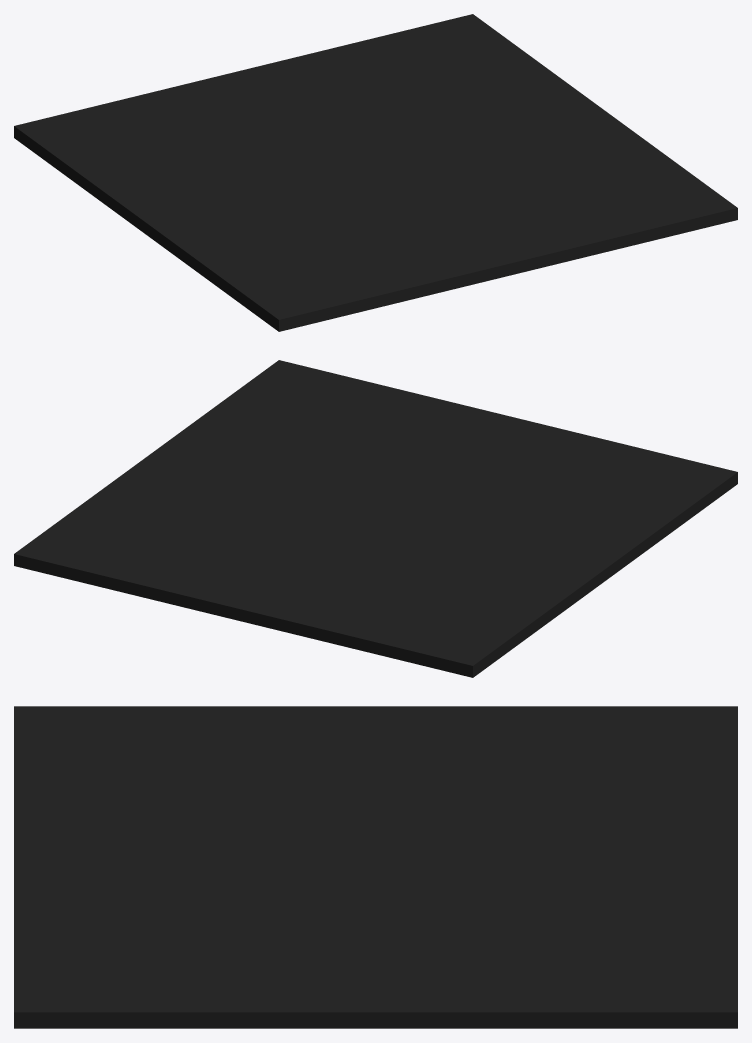
File: Ceiling.fbx
The picture shows the model from 3 angles, top to bottom: view 1: azimuth 30°, elevation 25°; view 2: azimuth 150°, elevation 25°; view 3: azimuth 270°, elevation 25°; orthographic projection. The views are drawn at different scales.
Visible parts, largest first — view 1: Plane; view 2: Plane; view 3: Plane.
Part boxes in pixels (bbox=[...]): Plane: bbox=[14, 14, 737, 331]; Plane: bbox=[14, 360, 737, 677]; Plane: bbox=[14, 706, 737, 1028].
Size of the model in its own units: 200 by 7.56 by 200.
Materials: 1 (1 with a texture image).
